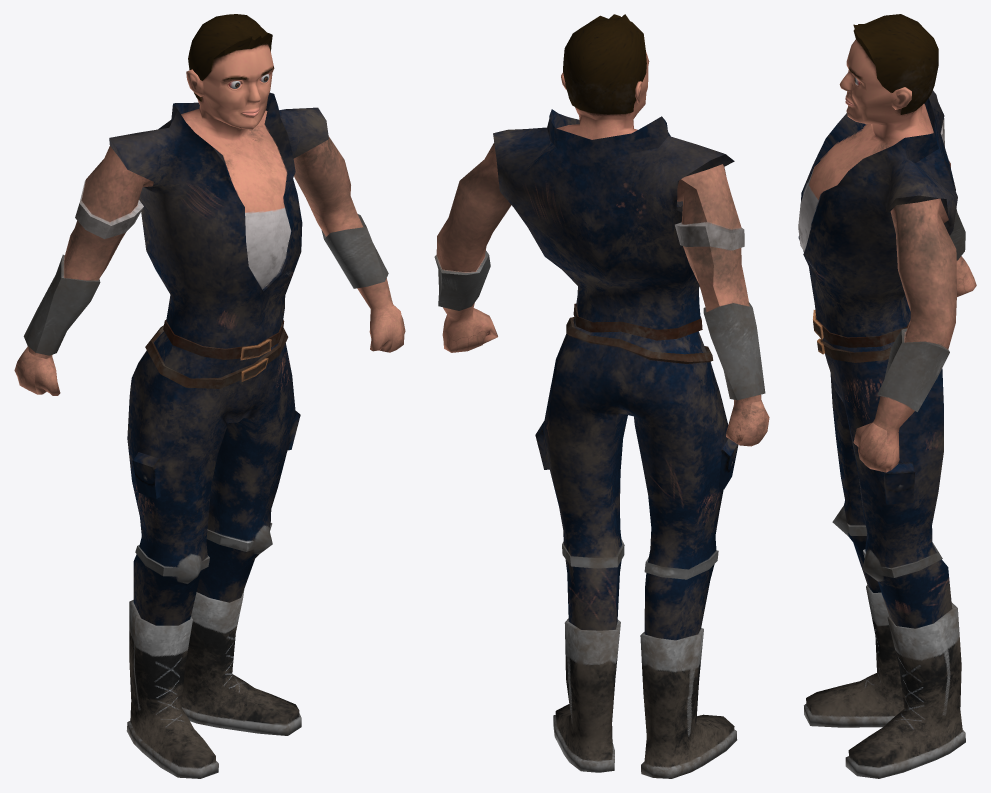
Rendered from Anim_interruptor_jugador.0035.obj.
3 views of the same model, side by side, from view 1: azimuth 30°, elevation 25°; view 2: azimuth 150°, elevation 25°; view 3: azimuth 270°, elevation 25° (orthographic). The views are drawn at different scales.
Parts seen in each view (by area): view 1: polySurface1; view 2: polySurface1; view 3: polySurface1.
Part boxes in pixels (box(x1,y1,x2,y2)): polySurface1: box(14, 14, 405, 778); polySurface1: box(434, 14, 769, 778); polySurface1: box(798, 14, 976, 778).
Size of the model in its own units: 4.93 by 9.6 by 2.12.
